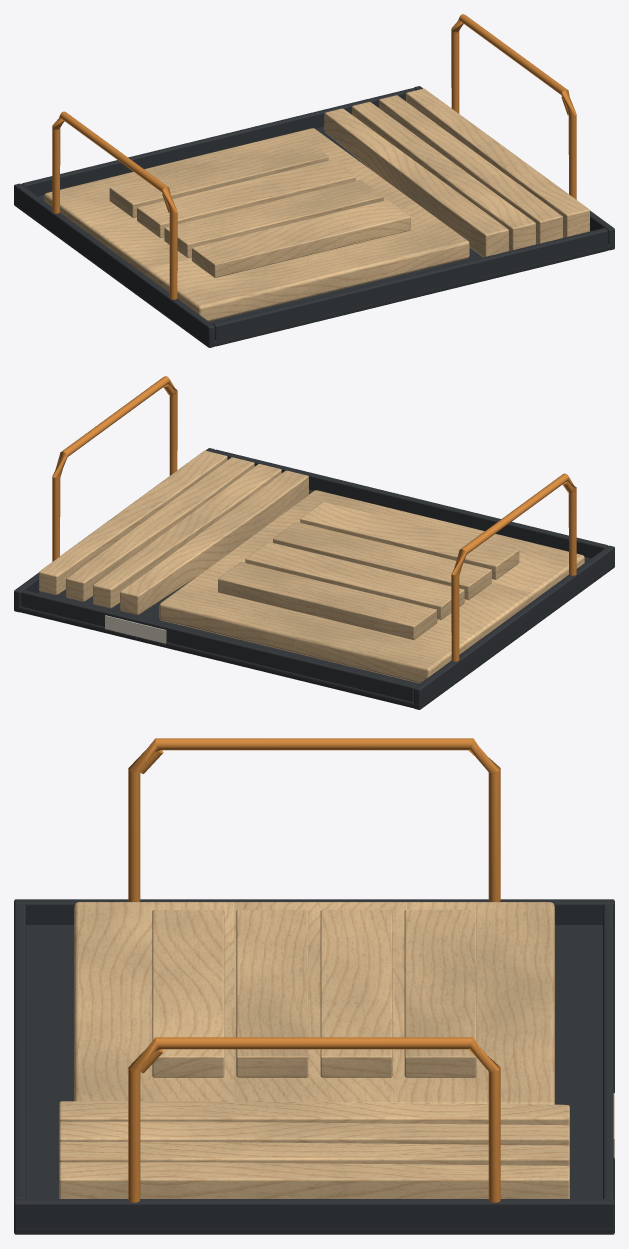
File: Hocker01_Kit.glb
3 renders of one model, top to bottom at view 1: azimuth 30°, elevation 25°; view 2: azimuth 150°, elevation 25°; view 3: azimuth 270°, elevation 25°, orthographic. The views are drawn at different scales.
Visible parts, largest first — view 1: Hocker01_Kit__WoodRaw, Hocker01_Kit__SteelDark, Hocker01_Kit__SafetyOrange; view 2: Hocker01_Kit__WoodRaw, Hocker01_Kit__SteelDark, Hocker01_Kit__SafetyOrange, Hocker01_Kit__WallWhite; view 3: Hocker01_Kit__WoodRaw, Hocker01_Kit__SteelDark, Hocker01_Kit__SafetyOrange.
Part boxes in pixels (box(x1,y1,x2,y2)): Hocker01_Kit__WoodRaw: box(44, 88, 589, 321); Hocker01_Kit__SteelDark: box(14, 86, 614, 347); Hocker01_Kit__SafetyOrange: box(52, 14, 576, 299); Hocker01_Kit__WoodRaw: box(39, 450, 584, 683); Hocker01_Kit__SteelDark: box(14, 448, 614, 709); Hocker01_Kit__SafetyOrange: box(52, 376, 576, 661); Hocker01_Kit__WallWhite: box(105, 615, 166, 644); Hocker01_Kit__WoodRaw: box(59, 902, 569, 1198); Hocker01_Kit__SteelDark: box(14, 899, 614, 1234); Hocker01_Kit__SafetyOrange: box(128, 738, 500, 1202).
Size of the model in its own units: 0.6 by 0.1788 by 0.5.
Materials: 4 (1 with a texture image).
